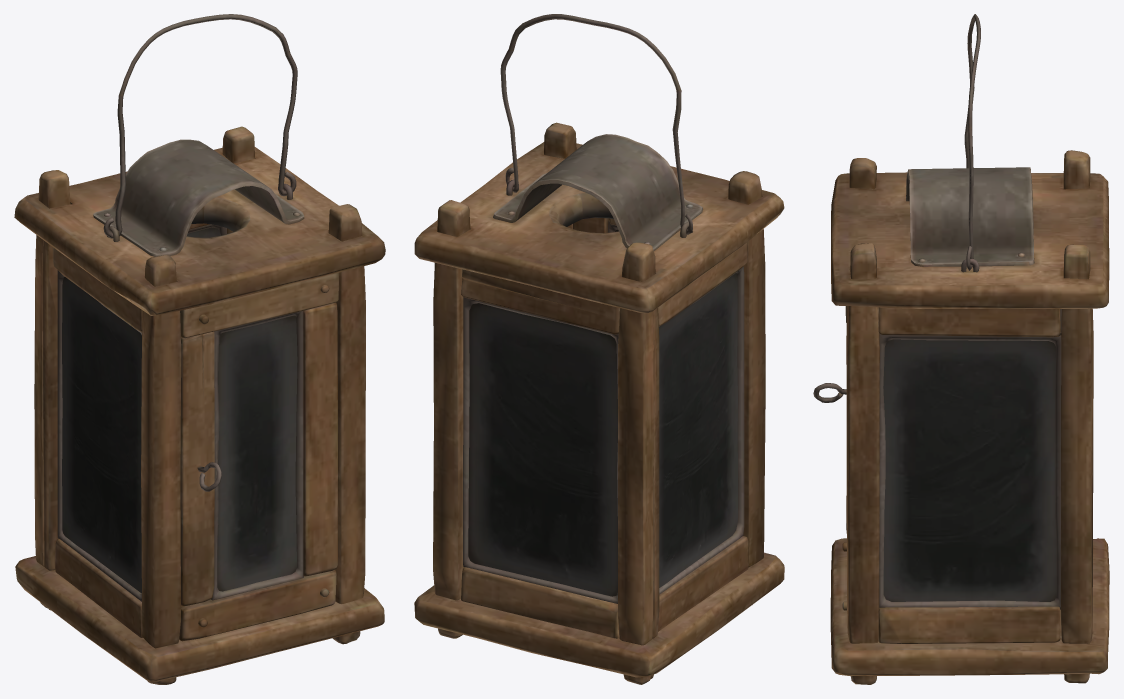
File: wooden_lantern_01.glb
3 renders of one model, left to right at view 1: azimuth 30°, elevation 25°; view 2: azimuth 150°, elevation 25°; view 3: azimuth 270°, elevation 25°, orthographic.
Parts seen in each view (by area): view 1: wooden_lantern_01, wooden_lantern_01_door, wooden_lantern_01_handle; view 2: wooden_lantern_01, wooden_lantern_01_handle, wooden_lantern_01_door; view 3: wooden_lantern_01, wooden_lantern_01_handle, wooden_lantern_01_door.
Boxes of the visible parts, x1,y1,x2,y2 form: wooden_lantern_01: [14, 126, 385, 684]; wooden_lantern_01_door: [179, 272, 339, 641]; wooden_lantern_01_handle: [103, 14, 297, 238]; wooden_lantern_01: [414, 122, 784, 684]; wooden_lantern_01_handle: [500, 14, 692, 234]; wooden_lantern_01_door: [573, 217, 618, 233]; wooden_lantern_01: [830, 150, 1109, 684]; wooden_lantern_01_handle: [964, 14, 980, 270]; wooden_lantern_01_door: [813, 306, 847, 610].
Size of the model in its own units: 0.221 by 0.5301 by 0.2347.
Materials: 2 (2 with a texture image).
